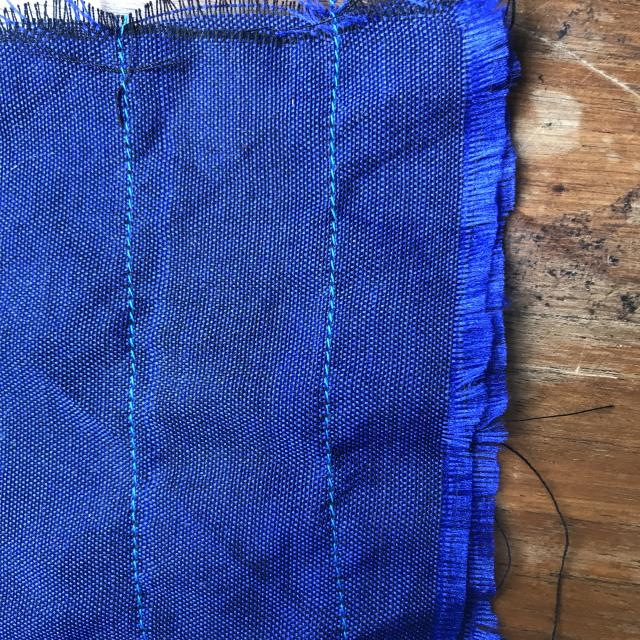good: (110, 185, 146, 332)
